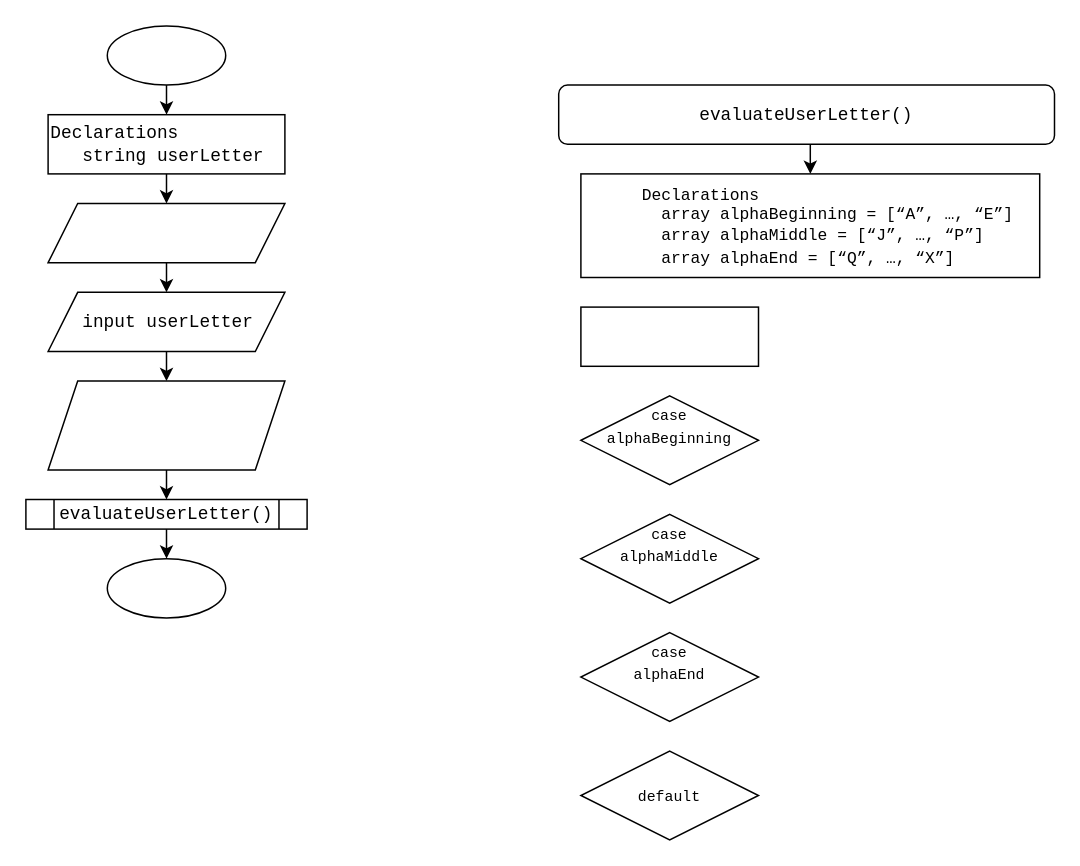
Some shapes in this 1080 by 866 pixel diagram are drawn without their labels. Here are the shapes that lost their labels. From the top down, the centre of each, then its label:
pixel 166 54: start
pixel 166 232: output "Please enter a letter"
pixel 668 336: switch (userLetter)
pixel 166 425: output "You entered: " + userLetter
pixel 166 587: stop
